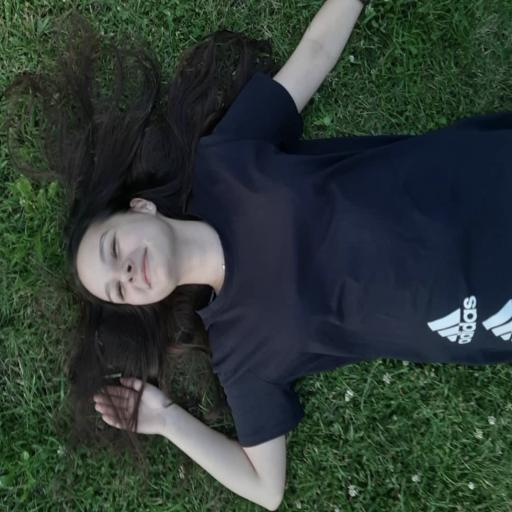marija: (75, 212, 179, 306)
